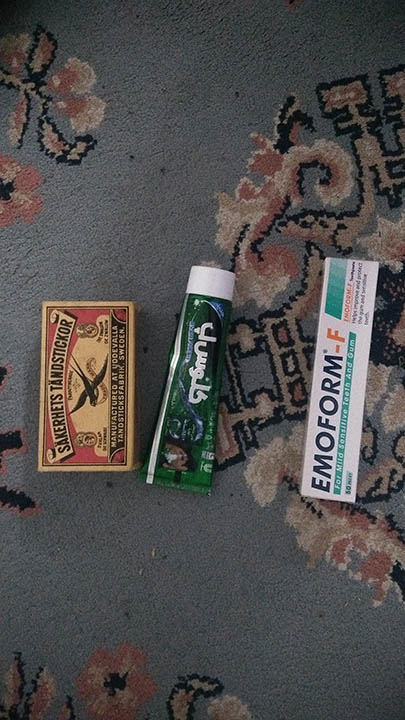Toothpaste-Closeup 3.04$: (148, 252, 239, 490)
Toothpaste-F 1.5$: (298, 253, 391, 499)
match-sticks .90$: (35, 296, 142, 470)
